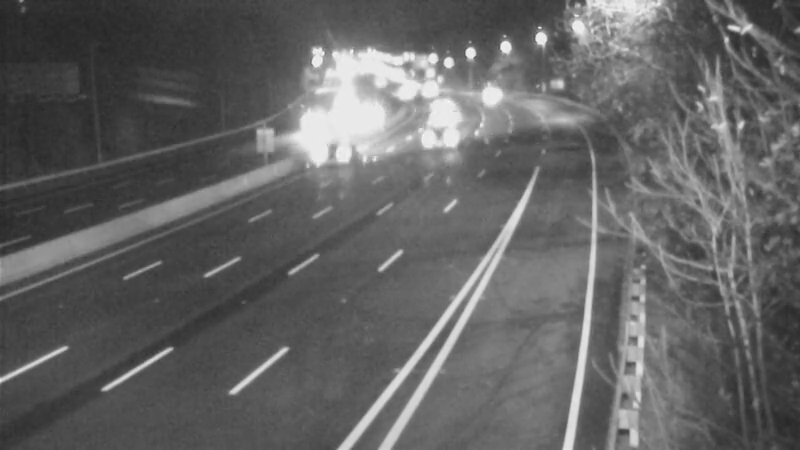vehicle: (402, 62, 452, 112), (459, 67, 509, 117), (374, 66, 424, 116), (412, 79, 462, 129), (413, 90, 463, 140), (421, 111, 471, 161), (345, 95, 395, 145), (284, 103, 334, 153), (317, 82, 367, 132)
